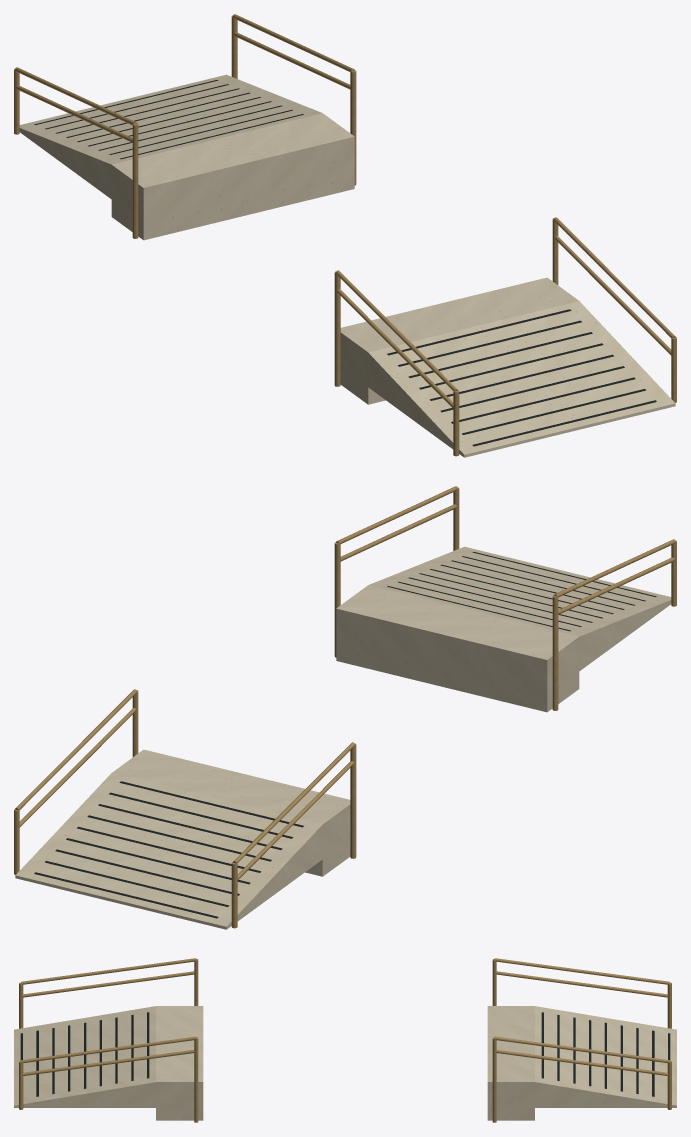
Rendered from Group6ThermalEntries_02_r002.glb.
3 views of the same model, one above another, from view 1: azimuth 30°, elevation 25°; view 2: azimuth 150°, elevation 25°; view 3: azimuth 270°, elevation 25° (orthographic). The views are drawn at different scales.
Parts seen in each view (by area): view 1: G6_THERMAL_02__entry_1_continuous_path, G6_THERMAL_02__entry_0_dry_bridge, G6_THERMAL_02__entry_0_continuous_path, G6_THERMAL_02__entry_1_dry_bridge, G6_THERMAL_02__entry_1_handrail_-1_1.05, G6_THERMAL_02__entry_1_handrail_1_1.05, G6_THERMAL_02__entry_1_handrail_1_0.75, G6_THERMAL_02__entry_1_handrail_-1_0.75, G6_THERMAL_02__entry_0_post_-1_dry, G6_THERMAL_02__entry_1_post_-1_dry, G6_THERMAL_02__entry_0_handrail_1_1.05, G6_THERMAL_02__entry_0_handrail_-1_1.05; view 2: G6_THERMAL_02__entry_0_continuous_path, G6_THERMAL_02__entry_1_dry_bridge, G6_THERMAL_02__entry_1_continuous_path, G6_THERMAL_02__entry_0_dry_bridge, G6_THERMAL_02__entry_0_handrail_-1_1.05, G6_THERMAL_02__entry_0_handrail_1_1.05, G6_THERMAL_02__entry_0_handrail_1_0.75, G6_THERMAL_02__entry_0_handrail_-1_0.75, G6_THERMAL_02__entry_1_post_-1_dry, G6_THERMAL_02__entry_0_post_-1_dry, G6_THERMAL_02__entry_1_handrail_1_1.05, G6_THERMAL_02__entry_1_handrail_-1_1.05; view 3: G6_THERMAL_02__entry_0_continuous_path, G6_THERMAL_02__entry_1_continuous_path, G6_THERMAL_02__entry_0_dry_bridge, G6_THERMAL_02__entry_1_dry_bridge, G6_THERMAL_02__entry_0_handrail_-1_1.05, G6_THERMAL_02__entry_1_handrail_-1_1.05, G6_THERMAL_02__entry_0_handrail_1_1.05, G6_THERMAL_02__entry_1_handrail_1_1.05, G6_THERMAL_02__entry_0_handrail_-1_0.75, G6_THERMAL_02__entry_1_handrail_-1_0.75, G6_THERMAL_02__entry_0_handrail_1_0.75, G6_THERMAL_02__entry_1_handrail_1_0.75 (+2 smaller).
Part boxes in pixels (<box>): G6_THERMAL_02__entry_1_continuous_path: <box>368,301,675,457</box>; G6_THERMAL_02__entry_0_dry_bridge: <box>111,113,354,240</box>; G6_THERMAL_02__entry_0_continuous_path: <box>19,74,322,199</box>; G6_THERMAL_02__entry_1_dry_bridge: <box>340,277,578,404</box>; G6_THERMAL_02__entry_1_handrail_-1_1.05: <box>335,270,458,391</box>; G6_THERMAL_02__entry_1_handrail_1_1.05: <box>553,217,675,338</box>; G6_THERMAL_02__entry_1_handrail_1_0.75: <box>554,236,671,355</box>; G6_THERMAL_02__entry_1_handrail_-1_0.75: <box>336,289,453,408</box>; G6_THERMAL_02__entry_0_post_-1_dry: <box>132,123,138,238</box>; G6_THERMAL_02__entry_1_post_-1_dry: <box>334,271,340,386</box>; G6_THERMAL_02__entry_0_handrail_1_1.05: <box>232,14,354,71</box>; G6_THERMAL_02__entry_0_handrail_-1_1.05: <box>15,67,137,125</box>; G6_THERMAL_02__entry_0_continuous_path: <box>15,773,322,929</box>; G6_THERMAL_02__entry_1_dry_bridge: <box>336,585,579,712</box>; G6_THERMAL_02__entry_1_continuous_path: <box>368,546,671,671</box>; G6_THERMAL_02__entry_0_dry_bridge: <box>112,749,350,876</box>; G6_THERMAL_02__entry_0_handrail_-1_1.05: <box>232,742,355,863</box>; G6_THERMAL_02__entry_0_handrail_1_1.05: <box>15,689,137,810</box>; G6_THERMAL_02__entry_0_handrail_1_0.75: <box>19,708,136,827</box>; G6_THERMAL_02__entry_0_handrail_-1_0.75: <box>237,761,354,880</box>; G6_THERMAL_02__entry_1_post_-1_dry: <box>552,595,558,710</box>; G6_THERMAL_02__entry_0_post_-1_dry: <box>350,743,356,858</box>; G6_THERMAL_02__entry_1_handrail_1_1.05: <box>336,486,458,543</box>; G6_THERMAL_02__entry_1_handrail_-1_1.05: <box>553,539,675,597</box>; G6_THERMAL_02__entry_0_continuous_path: <box>535,1006,676,1107</box>; G6_THERMAL_02__entry_1_continuous_path: <box>14,1006,155,1107</box>; G6_THERMAL_02__entry_0_dry_bridge: <box>487,1006,534,1120</box>; G6_THERMAL_02__entry_1_dry_bridge: <box>156,1006,203,1120</box>; G6_THERMAL_02__entry_0_handrail_-1_1.05: <box>494,958,669,984</box>; G6_THERMAL_02__entry_1_handrail_-1_1.05: <box>21,958,196,984</box>; G6_THERMAL_02__entry_0_handrail_1_1.05: <box>494,1036,669,1063</box>; G6_THERMAL_02__entry_1_handrail_1_1.05: <box>21,1036,196,1063</box>; G6_THERMAL_02__entry_0_handrail_-1_0.75: <box>496,971,668,997</box>; G6_THERMAL_02__entry_1_handrail_-1_0.75: <box>22,971,194,997</box>; G6_THERMAL_02__entry_0_handrail_1_0.75: <box>496,1050,668,1075</box>; G6_THERMAL_02__entry_1_handrail_1_0.75: <box>22,1050,194,1075</box>.
Bounding box in the file's own units: 4.01 × 1.98 × 14.
3 materials, 3 textured.
